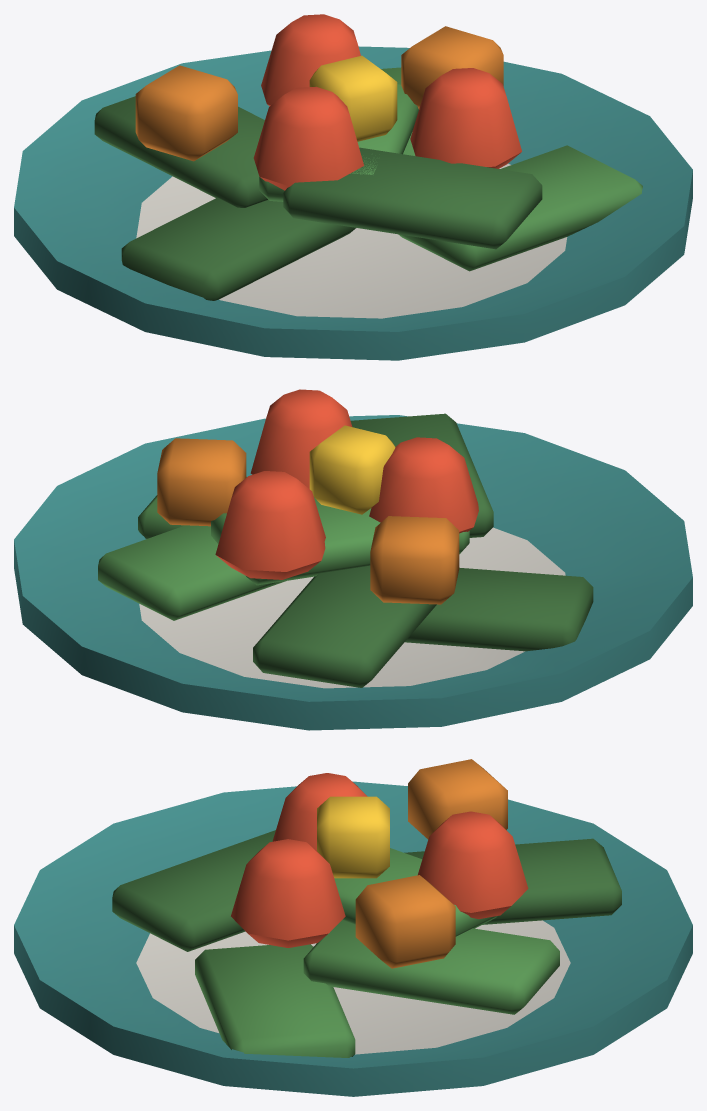
The model's file is SM_Plate_Salad_01.glb.
The picture shows the model from 3 angles, top to bottom: view 1: azimuth 30°, elevation 25°; view 2: azimuth 150°, elevation 25°; view 3: azimuth 270°, elevation 25°; orthographic projection.
Visible parts, largest first — view 1: SM_Plate_Salad_01; view 2: SM_Plate_Salad_01; view 3: SM_Plate_Salad_01.
Boxes of the visible parts, x1,y1,x2,y2 form: SM_Plate_Salad_01: (14, 14, 692, 360); SM_Plate_Salad_01: (14, 389, 692, 730); SM_Plate_Salad_01: (14, 759, 692, 1096).
Size of the model in its own units: 0.26 by 0.084 by 0.26.
1 material, 1 textured.
